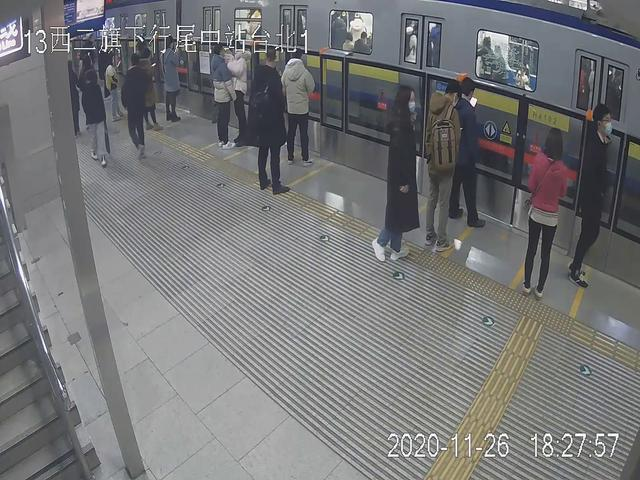person: (571, 100, 613, 288), (525, 123, 566, 298), (373, 83, 413, 256), (447, 72, 487, 227), (427, 78, 457, 254), (254, 46, 286, 192), (281, 39, 317, 165), (81, 70, 111, 170), (209, 39, 236, 144), (121, 55, 148, 159), (160, 36, 184, 125)
